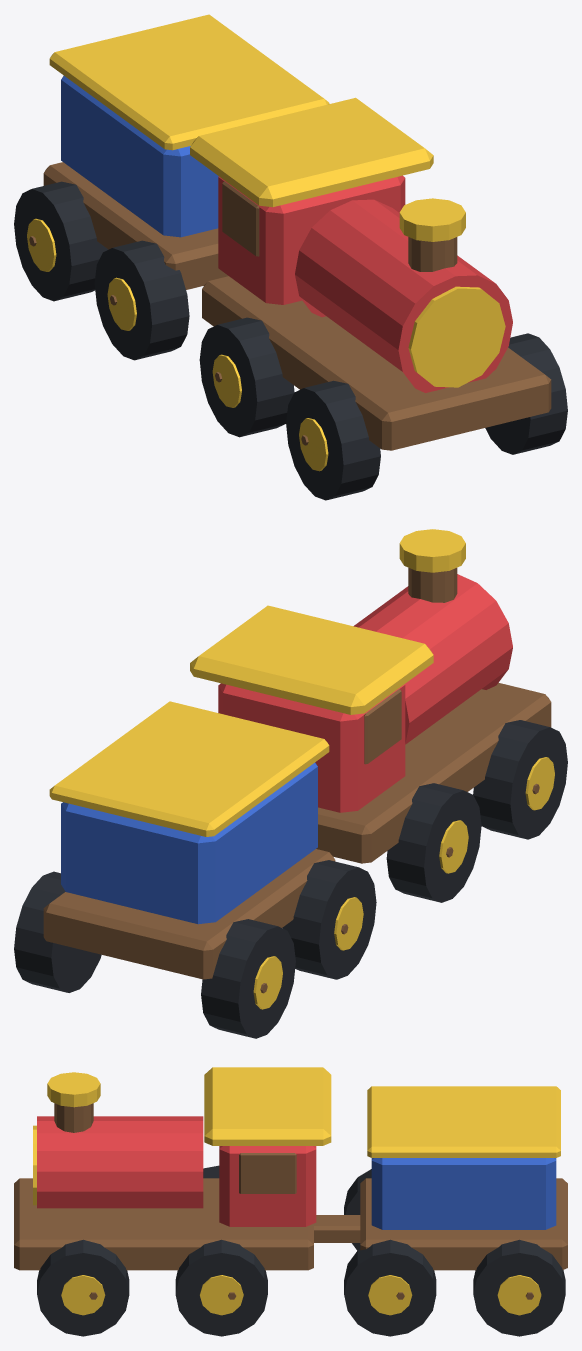
File: toy_train.glb
3 renders of one model, top to bottom at view 1: azimuth 30°, elevation 25°; view 2: azimuth 150°, elevation 25°; view 3: azimuth 270°, elevation 25°, orthographic. The views are drawn at different scales.
Visible parts, largest first — view 1: toy_train_Yellow, toy_train_WoodDark, toy_train_Red, toy_train_Blue, Wheel_4_Rubber, Wheel_0_Rubber, Wheel_2_Rubber, Wheel_6_Rubber, Wheel_1_Rubber, Wheel_6_Yellow, Wheel_0_Yellow, Wheel_2_Yellow (+1 smaller); view 2: toy_train_Yellow, toy_train_WoodDark, toy_train_Blue, toy_train_Red, Wheel_6_Rubber, Wheel_2_Rubber, Wheel_0_Rubber, Wheel_4_Rubber, Wheel_7_Rubber, Wheel_2_Yellow, Wheel_4_Yellow, Wheel_6_Yellow (+1 smaller); view 3: toy_train_Yellow, toy_train_WoodDark, toy_train_Red, toy_train_Blue, Wheel_5_Rubber, Wheel_1_Rubber, Wheel_3_Rubber, Wheel_7_Rubber, Wheel_1_Yellow, Wheel_5_Yellow, Wheel_3_Yellow, Wheel_7_Yellow (+1 smaller).
Part boxes in pixels (left/top/right/bottom): toy_train_Yellow: left=49, top=14, right=505, bottom=387; toy_train_WoodDark: left=43, top=162, right=551, bottom=450; toy_train_Red: left=218, top=175, right=512, bottom=392; toy_train_Blue: left=61, top=75, right=218, bottom=237; Wheel_4_Rubber: left=94, top=240, right=189, bottom=360; Wheel_0_Rubber: left=286, top=380, right=380, bottom=500; Wheel_2_Rubber: left=199, top=317, right=294, bottom=437; Wheel_6_Rubber: left=14, top=181, right=108, bottom=301; Wheel_1_Rubber: left=485, top=333, right=567, bottom=454; Wheel_6_Yellow: left=27, top=218, right=56, bottom=271; Wheel_0_Yellow: left=299, top=418, right=328, bottom=471; Wheel_2_Yellow: left=212, top=354, right=241, bottom=407; toy_train_Yellow: left=49, top=529, right=465, bottom=836; toy_train_WoodDark: left=43, top=567, right=551, bottom=979; toy_train_Blue: left=61, top=762, right=317, bottom=924; toy_train_Red: left=218, top=574, right=512, bottom=812; Wheel_6_Rubber: left=201, top=919, right=295, bottom=1038; Wheel_2_Rubber: left=386, top=783, right=481, bottom=902; Wheel_0_Rubber: left=473, top=720, right=567, bottom=839; Wheel_4_Rubber: left=282, top=860, right=376, bottom=979; Wheel_7_Rubber: left=14, top=871, right=101, bottom=992; Wheel_2_Yellow: left=439, top=820, right=468, bottom=873; Wheel_4_Yellow: left=334, top=897, right=363, bottom=950; Wheel_6_Yellow: left=253, top=956, right=282, bottom=1009; toy_train_Yellow: left=33, top=1067, right=560, bottom=1205; toy_train_WoodDark: left=14, top=1103, right=567, bottom=1270; toy_train_Red: left=37, top=1116, right=316, bottom=1226; toy_train_Blue: left=371, top=1158, right=556, bottom=1229; Wheel_5_Rubber: left=344, top=1239, right=436, bottom=1336; Wheel_1_Rubber: left=37, top=1239, right=129, bottom=1336; Wheel_3_Rubber: left=175, top=1239, right=267, bottom=1336; Wheel_7_Rubber: left=473, top=1239, right=565, bottom=1336; Wheel_1_Yellow: left=61, top=1275, right=105, bottom=1315; Wheel_5_Yellow: left=368, top=1275, right=412, bottom=1315; Wheel_3_Yellow: left=199, top=1275, right=243, bottom=1315; Wheel_7_Yellow: left=497, top=1275, right=541, bottom=1315.
Bounding box in the file's own units: 0.936 × 1 × 2.4.
